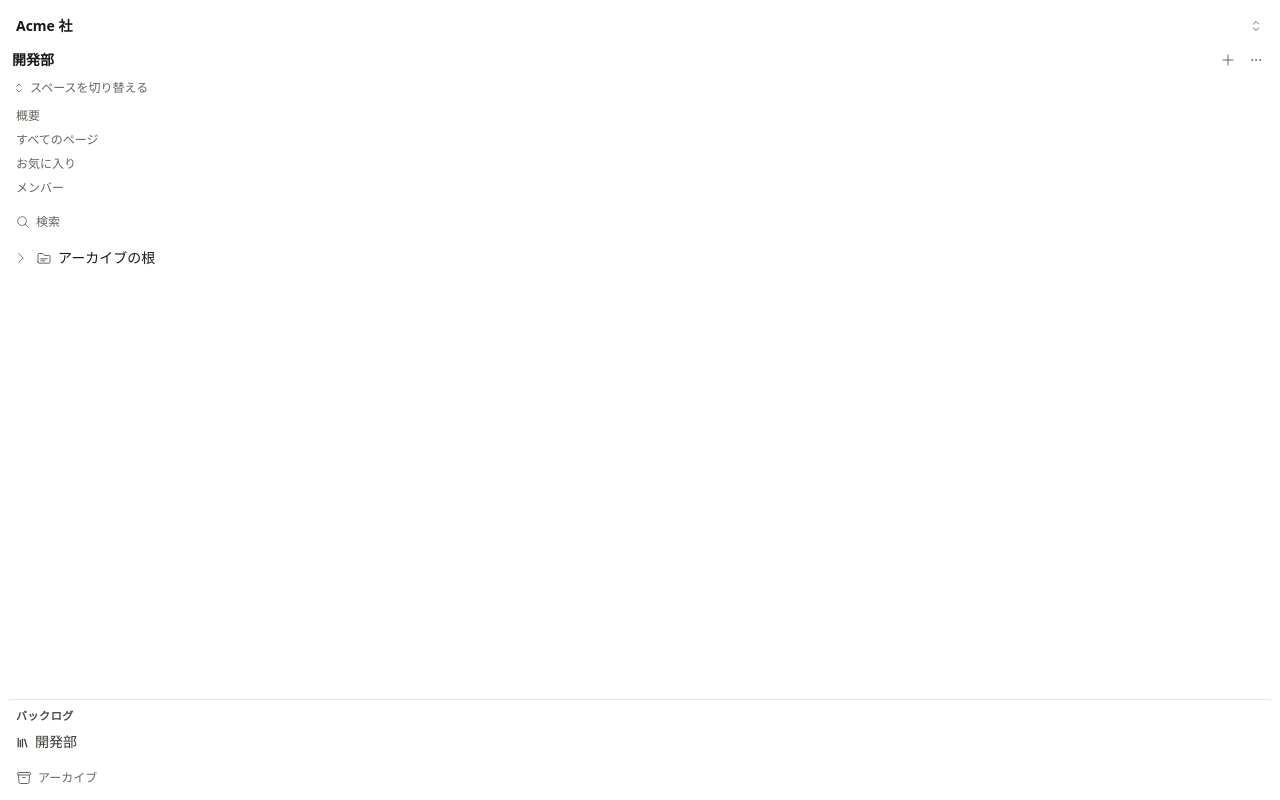
KbSidebar › アーカイブ › 復帰は、アーカイブの根にだけ出す
Expected: the text "アーカイブの根" is shown, [58,248,155,268]
Step 1. Click the button with aria-label "アーカイブしたページを表示" → click(68, 778), box [8,764,1272,792]
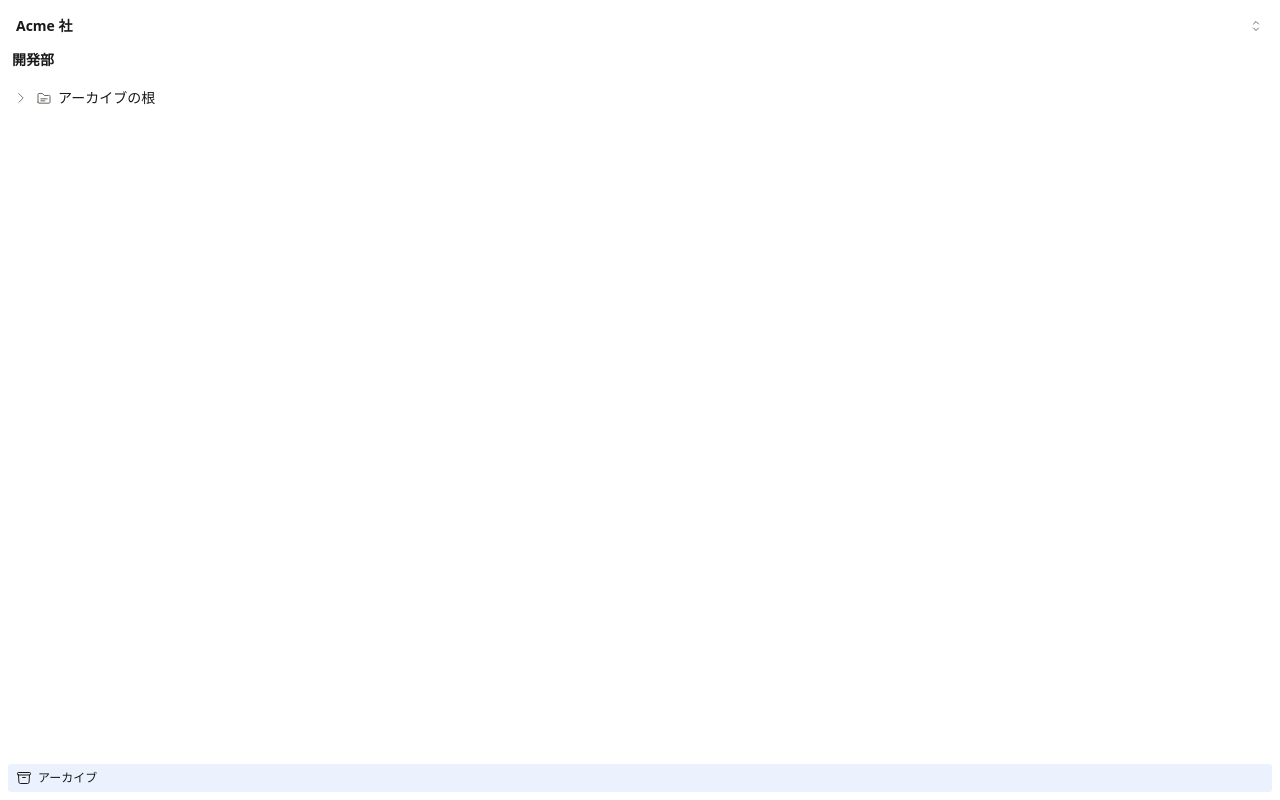
Expected: the text "アーカイブの根" is shown, [58,88,155,108]
Step 2. Click the button named "アーカイブの根 を開く" → click(21, 98), box [10,87,32,109]
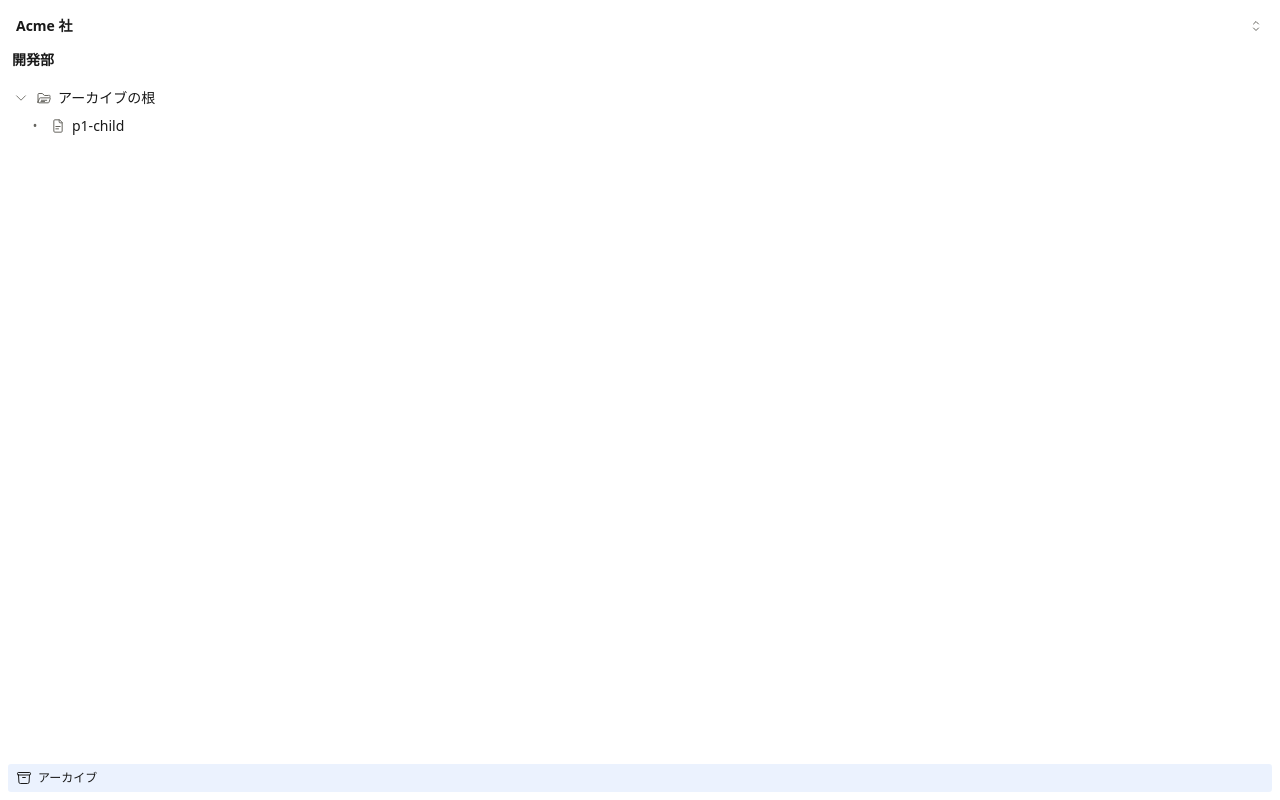
Result: the text "p1-child" is shown at [72,116,124,136]
